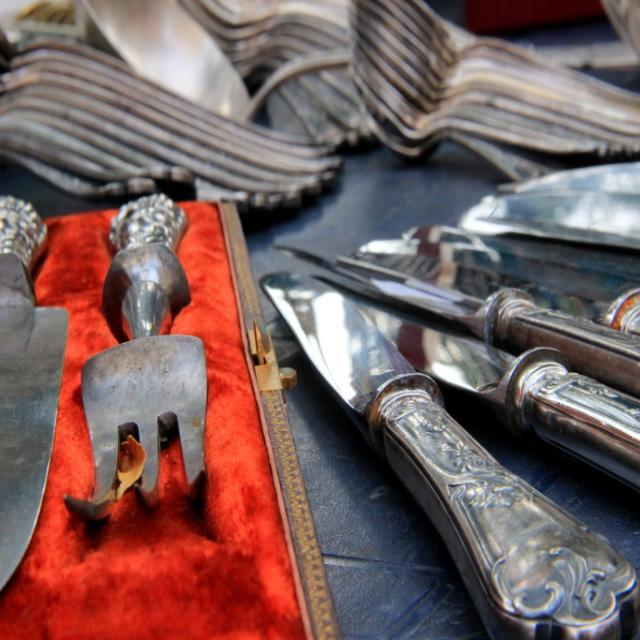Knife: (266, 276, 640, 640), (360, 306, 640, 491), (298, 252, 640, 397), (0, 198, 68, 589)
